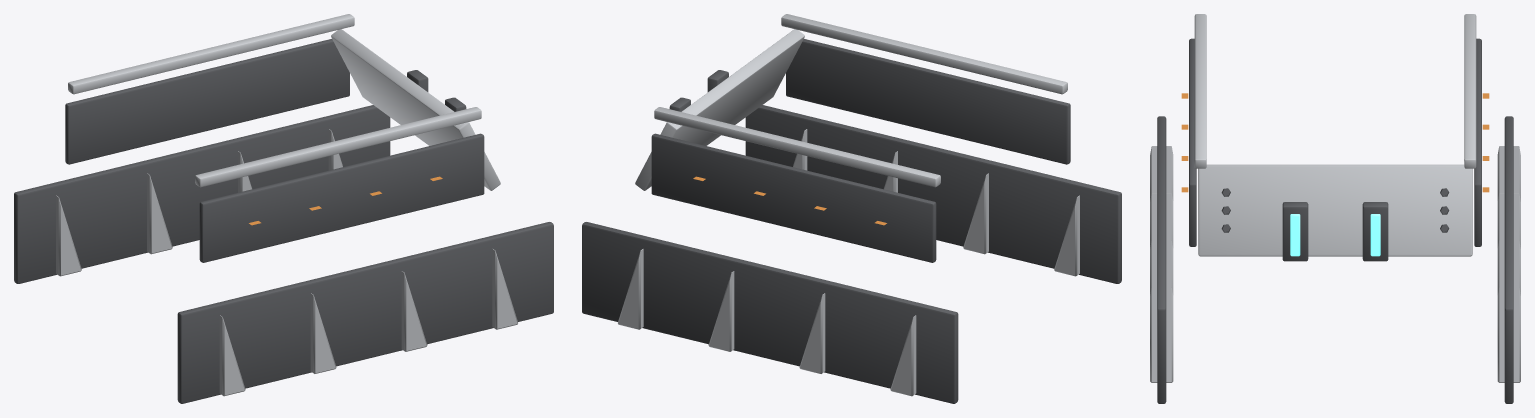
The model's file is anvil_hull.glb.
3 views of the same model, side by side, from view 1: azimuth 30°, elevation 25°; view 2: azimuth 150°, elevation 25°; view 3: azimuth 270°, elevation 25° (orthographic). The views are drawn at different scales.
Visible parts, largest first — view 1: overlay; view 2: overlay; view 3: overlay.
Boxes of the visible parts, x1,y1,x2,y2 form: overlay: (14, 14, 553, 403); overlay: (582, 14, 1121, 403); overlay: (1150, 14, 1520, 403).
Bounding box in the file's own units: 0.822 × 0.43 × 0.666.
